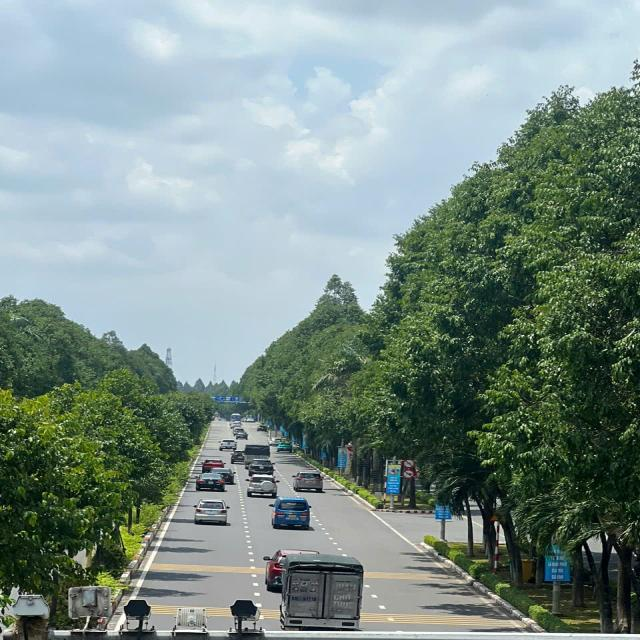ben: (273, 550, 371, 633)
car: (270, 497, 319, 533), (188, 495, 235, 529), (240, 470, 289, 498), (195, 464, 233, 496), (292, 468, 331, 495)
